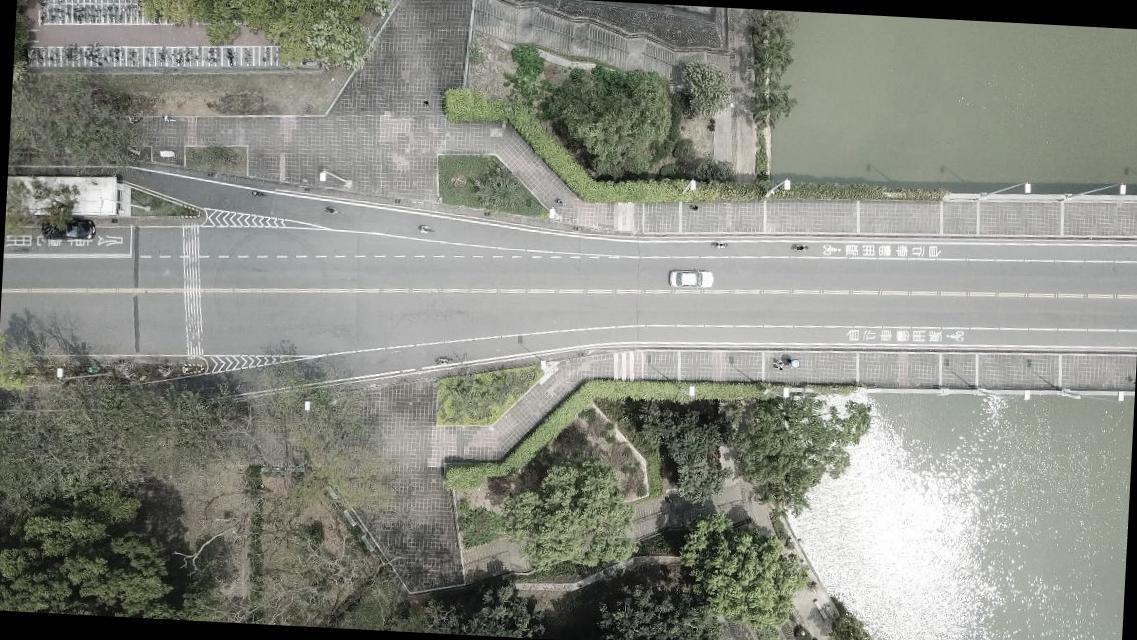vehicle: (40, 217, 95, 242), (667, 268, 713, 292)
